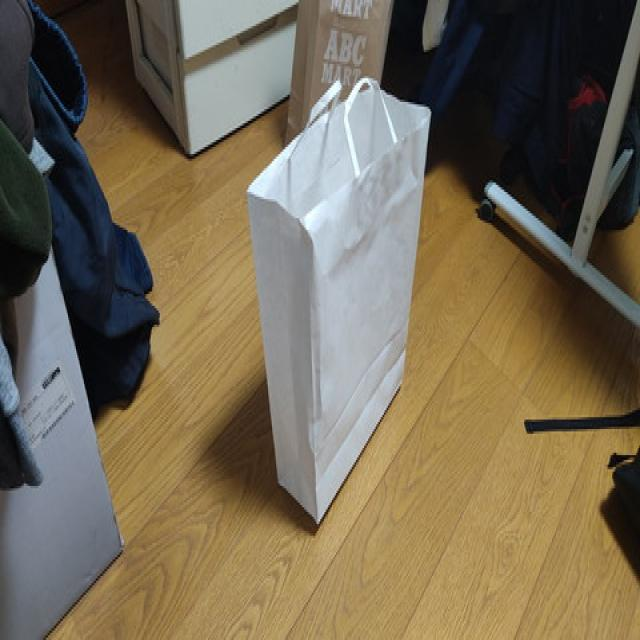paper bag: (246, 76, 432, 526), (288, 0, 393, 153)
